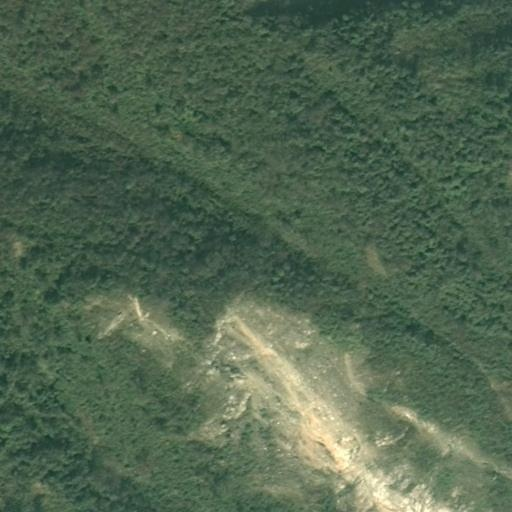landslide: (203, 291, 459, 512)
